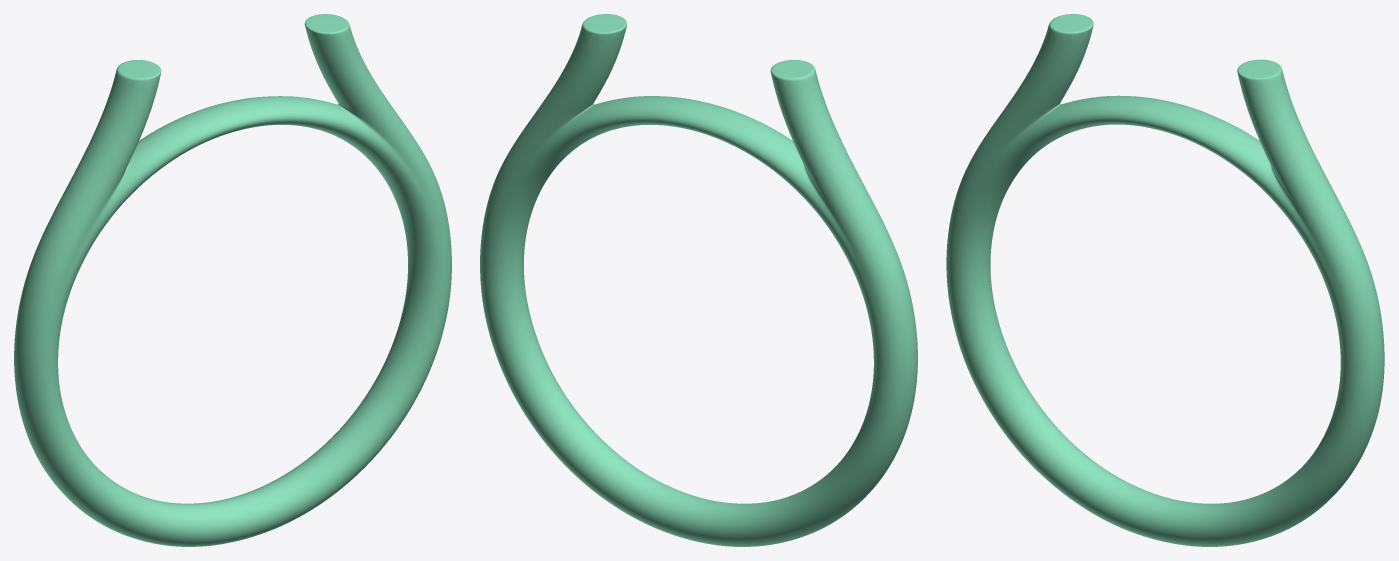
3 views of the same model, side by side, from view 1: azimuth 30°, elevation 25°; view 2: azimuth 150°, elevation 25°; view 3: azimuth 330°, elevation 25° (orthographic).
Parts seen in each view (by area): view 1: Metal02; view 2: Metal02; view 3: Metal02.
Boxes of the visible parts, <box> form: Metal02: <box>14,14,451,546</box>; Metal02: <box>480,14,917,546</box>; Metal02: <box>946,14,1384,546</box>.
Size of the model in its own units: 20.91 by 22.84 by 2.
